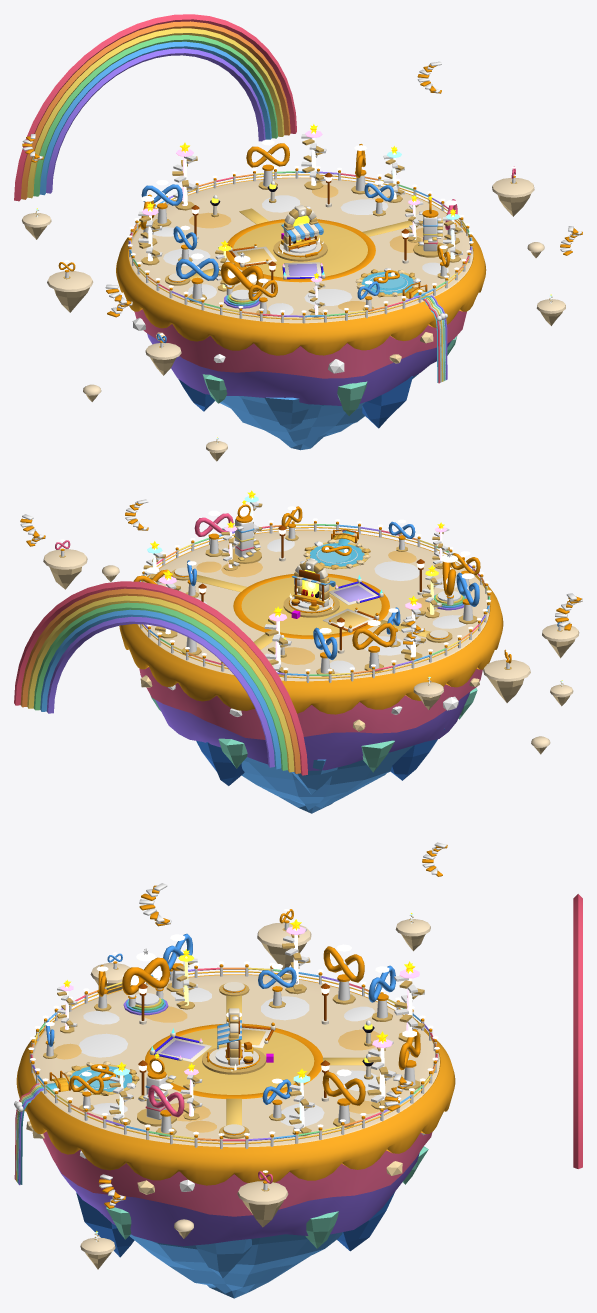
Rendered from infinity_island.fbx.
The picture shows the model from 3 angles, top to bottom: view 1: azimuth 30°, elevation 25°; view 2: azimuth 150°, elevation 25°; view 3: azimuth 270°, elevation 25°; orthographic projection. The views are drawn at different scales.
Parts seen in each view (by area): view 1: Infinity_Island, Infinity_FloatingRocks, Infinity_Trees, Infinity_Dressing, Infinity_Paths, Infinity_Glow, Infinity_Water, Infinity_BossPlinth, Infinity_Stall, Infinity_Portal; view 2: Infinity_Island, Infinity_FloatingRocks, Infinity_Trees, Infinity_Paths, Infinity_Dressing, Infinity_Glow, Infinity_Water, Infinity_Portal, Infinity_Stall, Infinity_BossPlinth; view 3: Infinity_Island, Infinity_Trees, Infinity_FloatingRocks, Infinity_Paths, Infinity_Dressing, Infinity_Glow, Infinity_Water, Infinity_BossPlinth, Infinity_Stall, Infinity_Portal.
Boxes of the visible parts, x1=… form: Infinity_Island: x1=116, y1=177, x2=486, y2=450; Infinity_FloatingRocks: x1=14, y1=14, x2=582, y2=461; Infinity_Trees: x1=138, y1=134, x2=462, y2=317; Infinity_Dressing: x1=128, y1=168, x2=472, y2=323; Infinity_Paths: x1=165, y1=208, x2=423, y2=285; Infinity_Glow: x1=36, y1=124, x2=551, y2=443; Infinity_Water: x1=361, y1=272, x2=447, y2=383; Infinity_BossPlinth: x1=273, y1=239, x2=327, y2=261; Infinity_Stall: x1=281, y1=223, x2=323, y2=251; Infinity_Portal: x1=278, y1=205, x2=323, y2=253; Infinity_Island: x1=119, y1=529, x2=503, y2=813; Infinity_FloatingRocks: x1=14, y1=499, x2=582, y2=775; Infinity_Trees: x1=133, y1=502, x2=480, y2=676; Infinity_Paths: x1=171, y1=567, x2=452, y2=649; Infinity_Dressing: x1=140, y1=504, x2=490, y2=682; Infinity_Glow: x1=60, y1=490, x2=562, y2=685; Infinity_Water: x1=310, y1=530, x2=364, y2=566; Infinity_Portal: x1=289, y1=559, x2=333, y2=609; Infinity_Stall: x1=291, y1=569, x2=335, y2=611; Infinity_BossPlinth: x1=283, y1=595, x2=339, y2=617; Infinity_Island: x1=16, y1=974, x2=455, y2=1298; Infinity_Trees: x1=43, y1=927, x2=424, y2=1136; Infinity_FloatingRocks: x1=80, y1=842, x2=582, y2=1269; Infinity_Paths: x1=144, y1=982, x2=364, y2=1138; Infinity_Dressing: x1=29, y1=957, x2=438, y2=1149; Infinity_Glow: x1=28, y1=909, x2=439, y2=1241; Infinity_Water: x1=14, y1=1066, x2=132, y2=1185; Infinity_BossPlinth: x1=202, y1=1045, x2=266, y2=1074; Infinity_Stall: x1=217, y1=1017, x2=253, y2=1064; Infinity_Portal: x1=226, y1=1008, x2=241, y2=1071.
Bounding box in the file's own units: 181 × 119 × 159.
